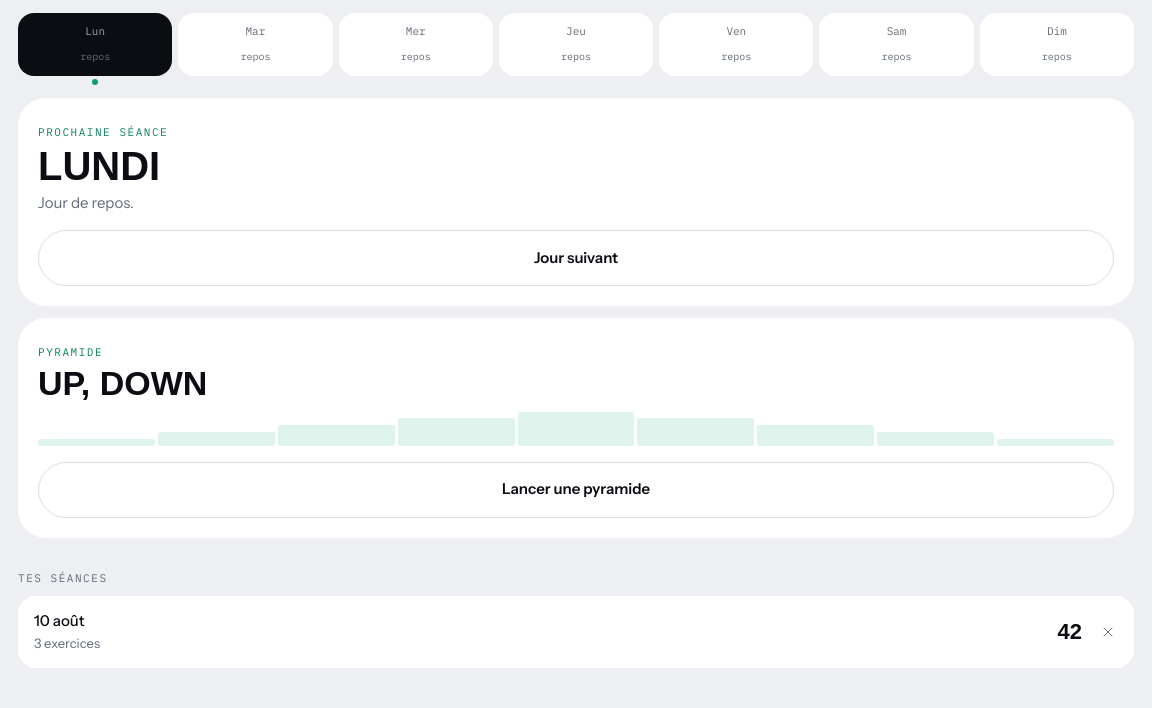
TrackingScreen › shows an error affordance when deleteTrackingSeanceAction fails
(page scrolled)
Click the button named "Supprimer la séance".
click(1108, 632)  # box [1090,614,1126,650]
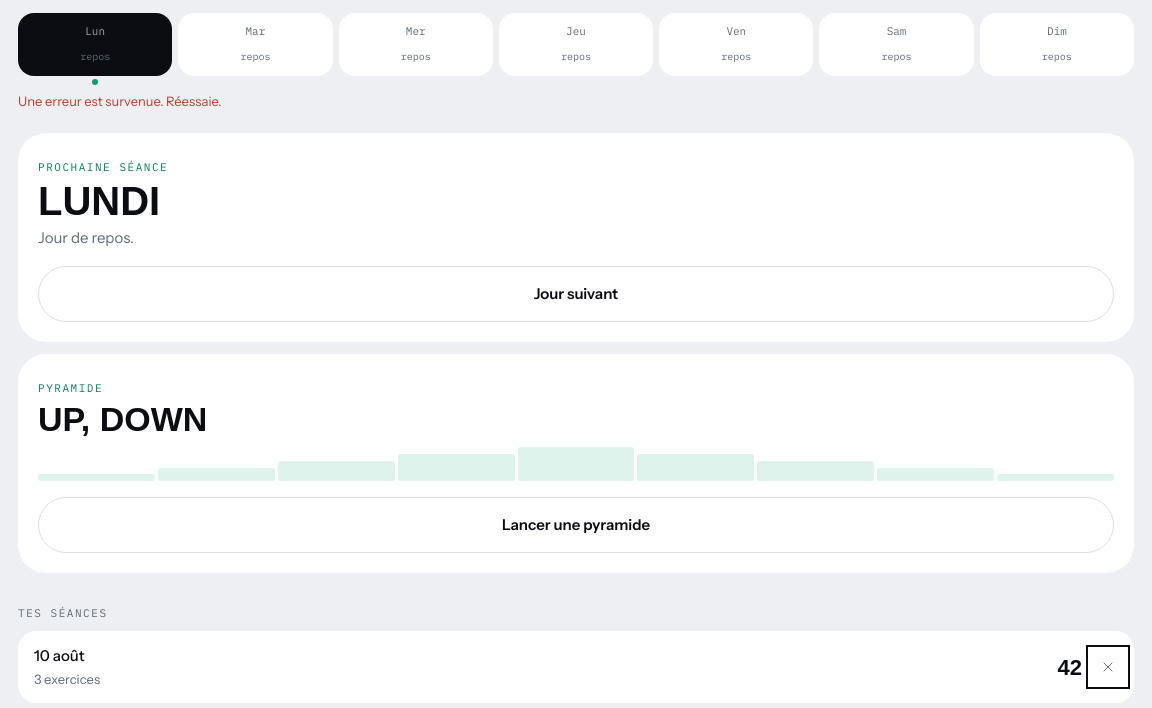
Result: the text "Une erreur est survenue. Réessaie." is shown at [18,93,222,109]
